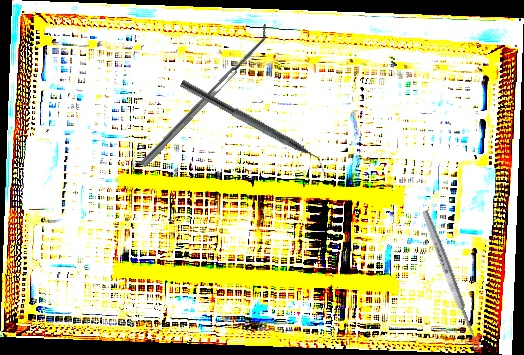Chopper: (174, 79, 332, 176)
Spatula Surgical: (135, 23, 275, 168)
Surgical Spoon: (419, 209, 483, 351)
